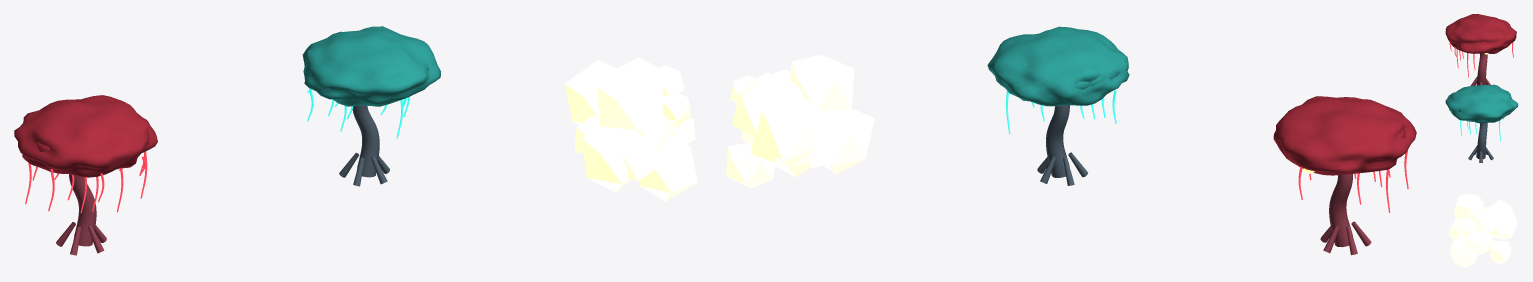
3 renders of one model, left to right at view 1: azimuth 30°, elevation 25°; view 2: azimuth 150°, elevation 25°; view 3: azimuth 270°, elevation 25°, orthographic. The views are drawn at different scales.
Parts seen in each view (by area): view 1: Glowstone, Crimson, Warped; view 2: Glowstone, Crimson, Warped; view 3: Glowstone, Crimson, Warped.
Boxes of the visible parts, bbox=[...] form: Glowstone: bbox=[564, 57, 697, 201]; Crimson: bbox=[14, 95, 157, 255]; Warped: bbox=[302, 26, 440, 186]; Glowstone: bbox=[726, 54, 874, 188]; Crimson: bbox=[1273, 96, 1416, 255]; Warped: bbox=[987, 26, 1129, 185]; Glowstone: bbox=[1448, 194, 1517, 267]; Crimson: bbox=[1445, 14, 1516, 86]; Warped: bbox=[1445, 84, 1518, 162].
Bounding box in the file's own units: 7.04 × 2.22 × 1.34.
